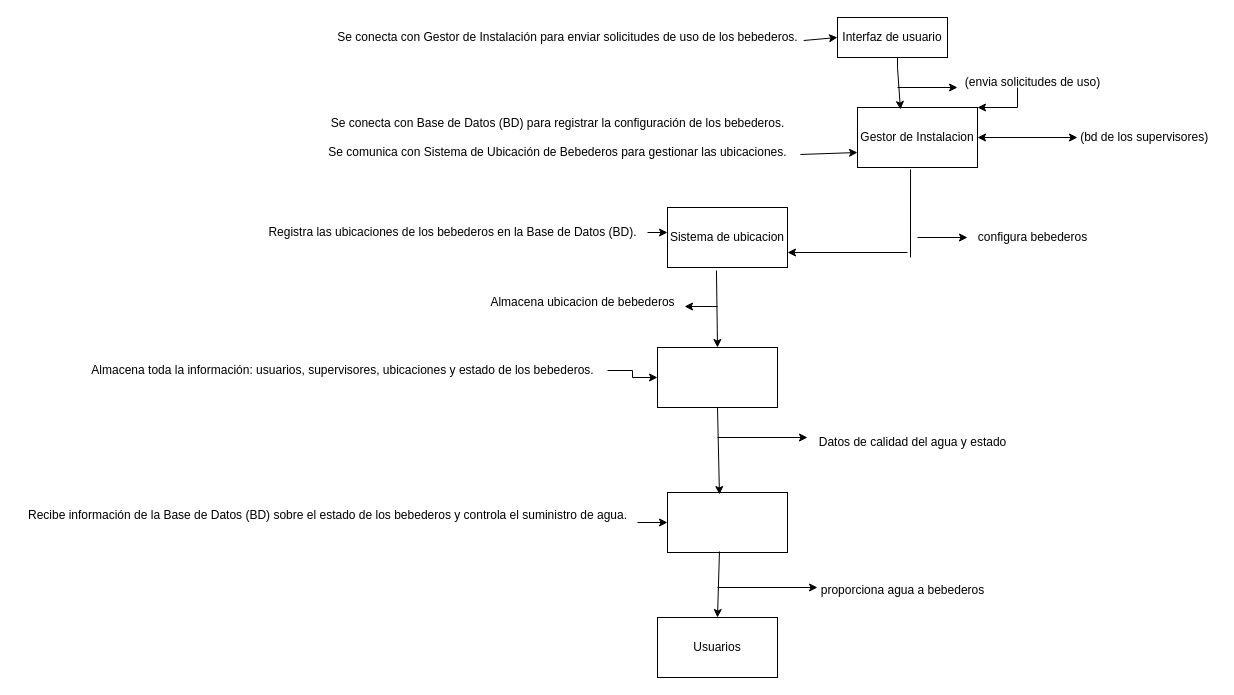
The diagram is 1234 pixels wide and 695 high, and some of its shapes have lost their labels. Here are the shapes that lost their labels. From the top down, the centre of each, then its label:
At [717,377]: "Base de Datos".
At [727,522]: "Sistema de Distribucion de Agua".
